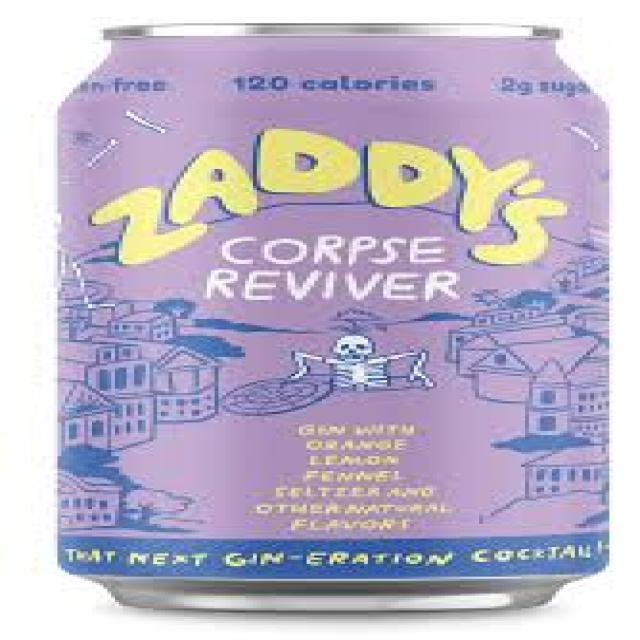Cans: (34, 10, 640, 619)
